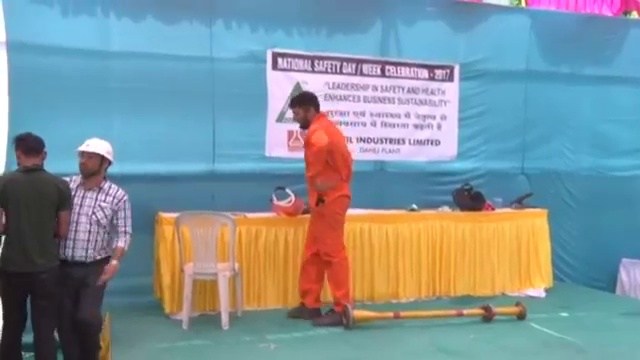helmet: (75, 135, 115, 165)
helmet_off: (12, 131, 49, 173), (288, 91, 320, 131)
helmet_on: (74, 135, 115, 184)
person: (59, 134, 137, 360), (1, 130, 74, 360), (288, 91, 356, 329)
